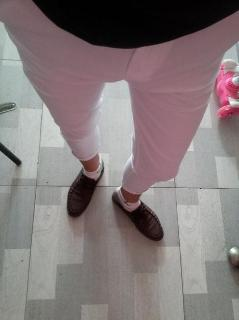trousers: (0, 0, 239, 195)
